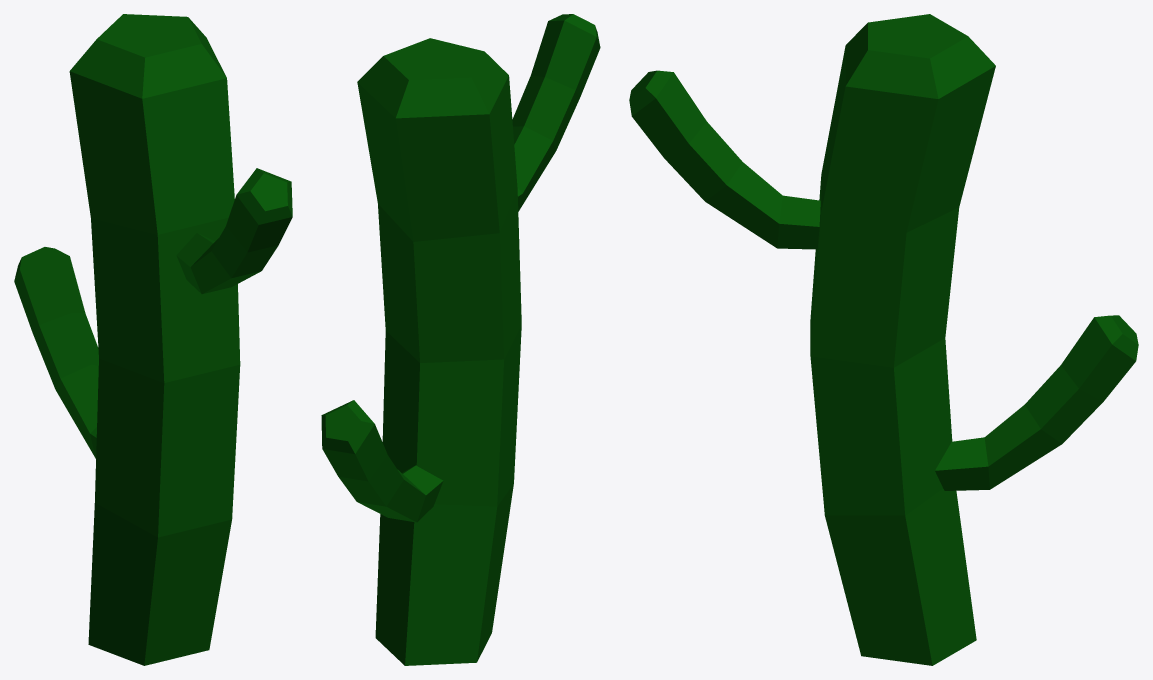
Rendered from cact1color.fbx.
The picture shows the model from 3 angles, left to right: view 1: azimuth 30°, elevation 25°; view 2: azimuth 150°, elevation 25°; view 3: azimuth 270°, elevation 25°; orthographic projection. The views are drawn at different scales.
Visible parts, largest first — view 1: Cylinder, Cylinder.002, Cylinder.001; view 2: Cylinder, Cylinder.001, Cylinder.002; view 3: Cylinder, Cylinder.002, Cylinder.001.
Part boxes in pixels (bbox=[...]): Cylinder: bbox=[69, 14, 240, 665]; Cylinder.002: bbox=[14, 247, 98, 458]; Cylinder.001: bbox=[176, 168, 292, 294]; Cylinder: bbox=[357, 38, 521, 665]; Cylinder.001: bbox=[512, 14, 600, 211]; Cylinder.002: bbox=[321, 400, 443, 522]; Cylinder: bbox=[810, 14, 995, 665]; Cylinder.002: bbox=[935, 315, 1138, 490]; Cylinder.001: bbox=[629, 70, 820, 249].
Bounding box in the file's own units: 190 × 802 × 613.
